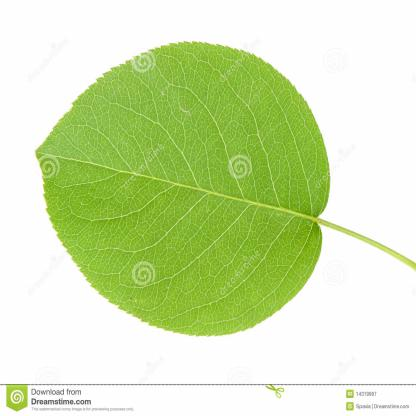apple leaf: (27, 36, 415, 345)
